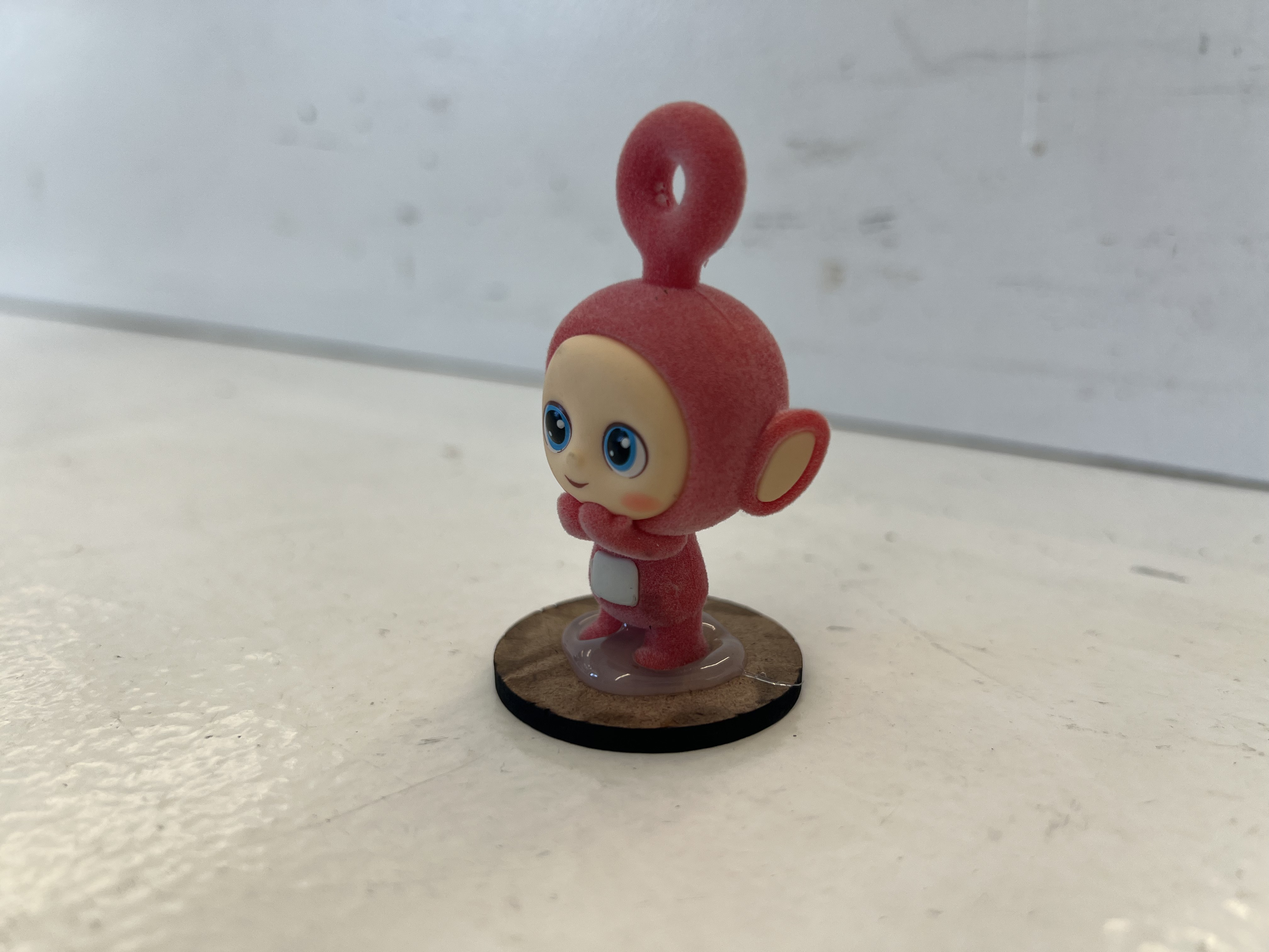teletubby: (541, 103, 829, 670)
